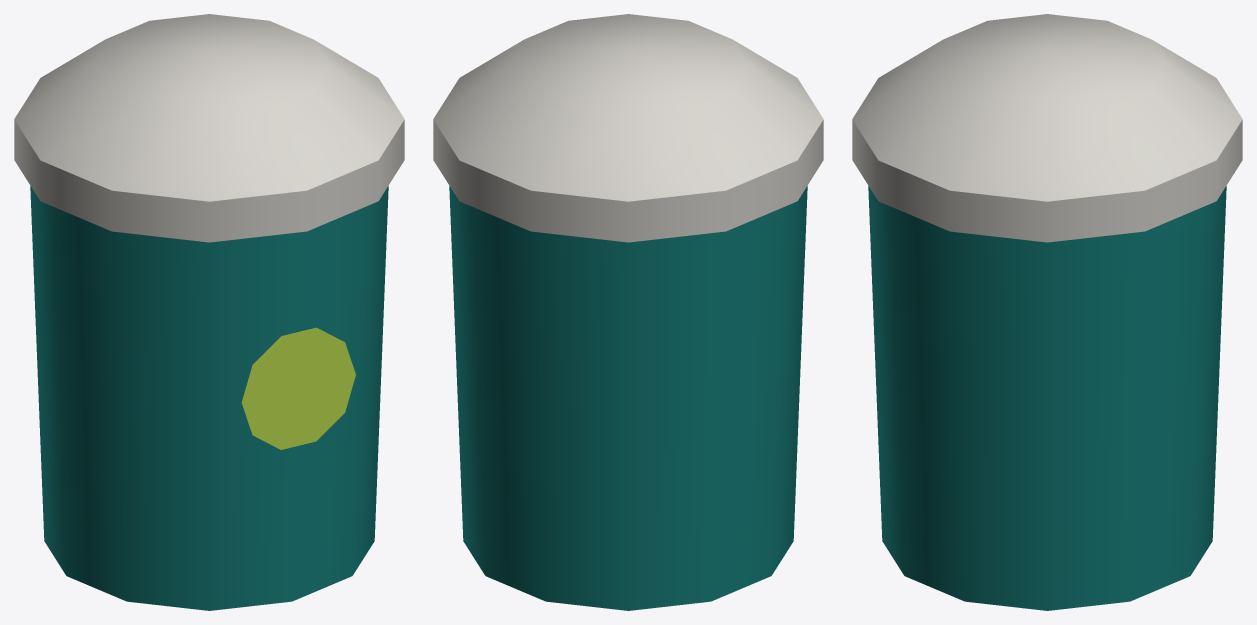
File: Papelera.fbx
The picture shows the model from 3 angles, left to right: view 1: azimuth 30°, elevation 25°; view 2: azimuth 150°, elevation 25°; view 3: azimuth 270°, elevation 25°; orthographic projection.
Visible parts, largest first — view 1: Papelera; view 2: Papelera; view 3: Papelera.
Boxes of the visible parts, box(x1,y1,x2,y2) form: Papelera: box(14, 14, 404, 610); Papelera: box(433, 14, 823, 610); Papelera: box(852, 14, 1242, 610).
Size of the model in its own units: 1.3 by 1.8 by 1.3.
1 material, 1 textured.
